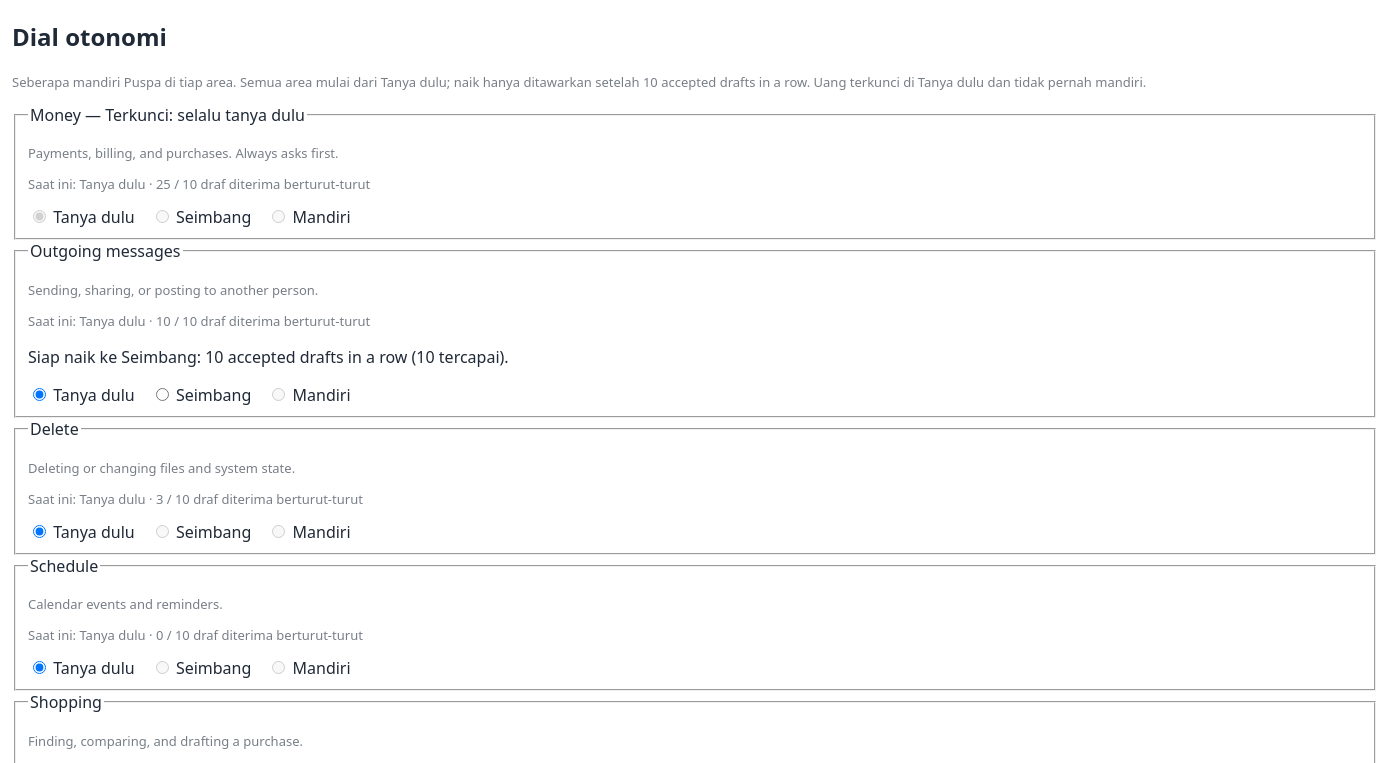
Test: AutonomyDialPanel › saves the new ceiling and confirms it
Check: the text "Siap naik ke Seimbang" is shown, box [28,346,509,368]
Click the radio button labelled "Seimbang" below "Outgoing messages" at [162, 394], box [156,388,169,401]
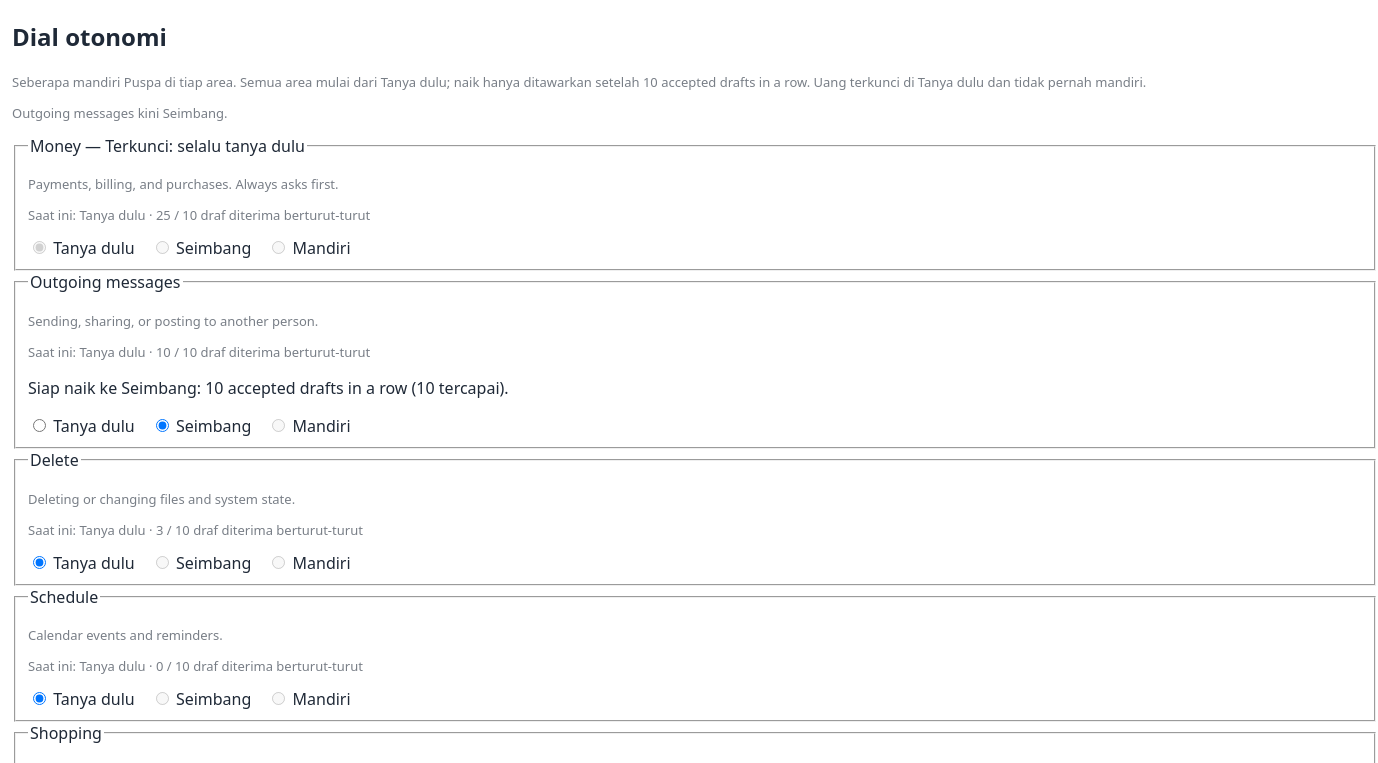
Check: the text "Outgoing messages kini Seimbang." is shown, box [12,104,228,122]
